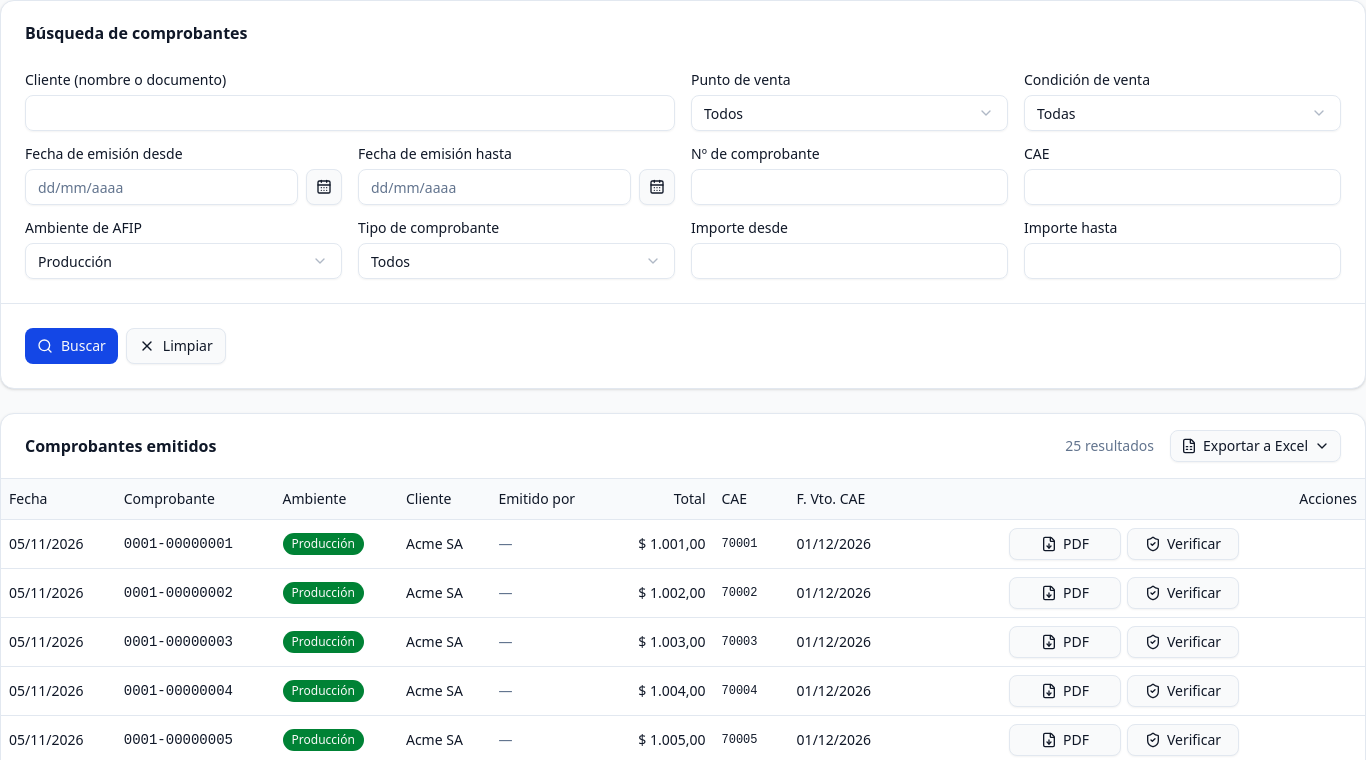
Test: Comprobantes emitidos: exportar › si el servidor la rechaza muestra el motivo sin romper la grilla
Expected: the text "Comprobantes emitidos" is shown, x1=25 y1=434 x2=216 y2=458
Click the button "Exportar a Excel". click: (1256, 446)
box: x1=1170 y1=430 x2=1341 y2=462
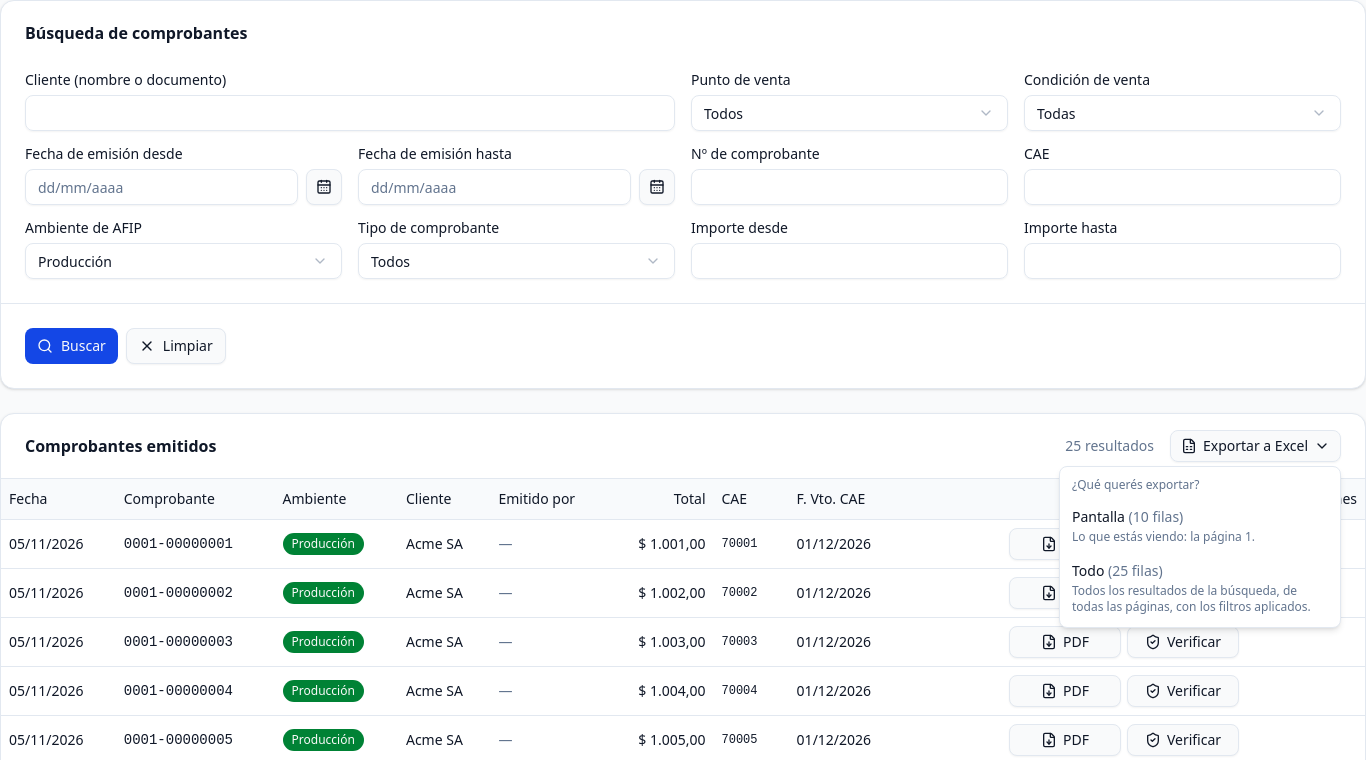
Click the menu item "Todo". click: (1200, 588)
box: x1=1064 y1=553 x2=1336 y2=623
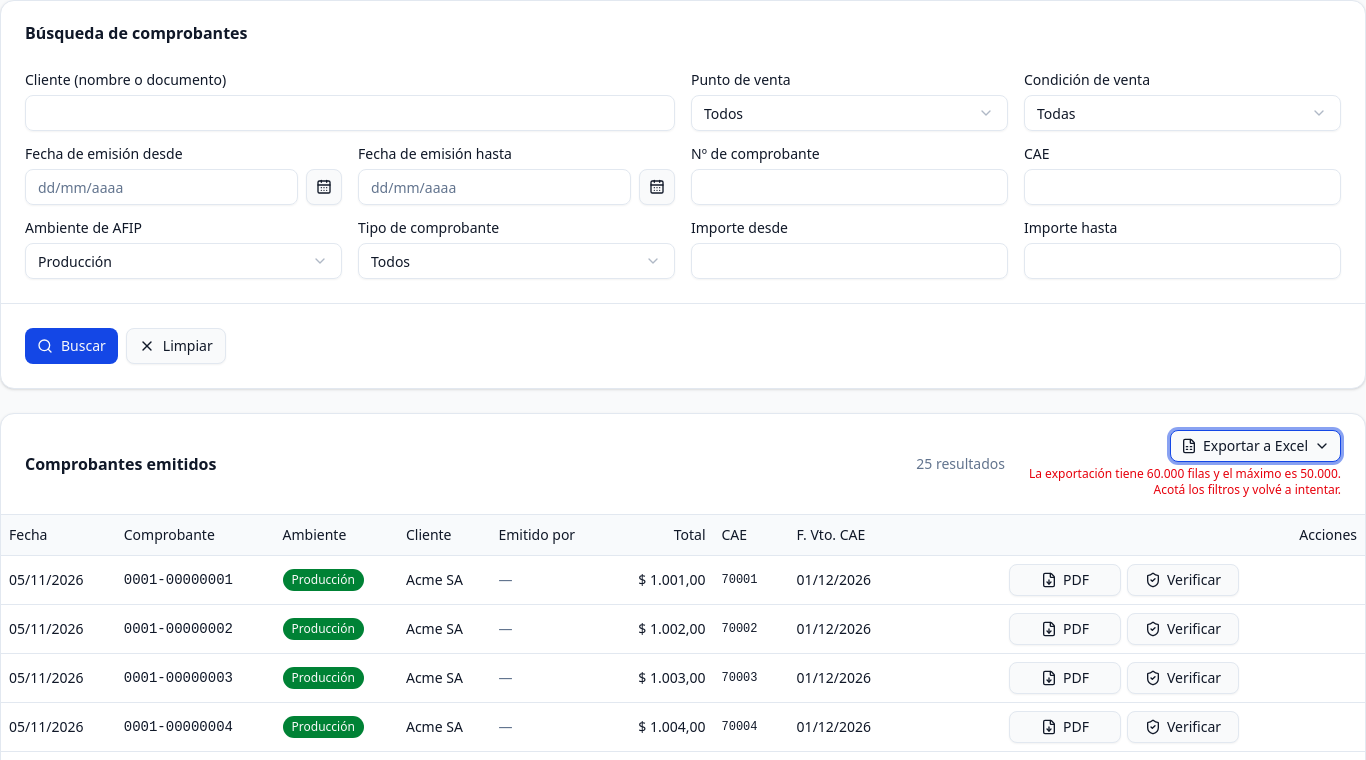
Expected: the text "Acme SA" in the row of "0001-00000001" is shown, x1=406 y1=570 x2=463 y2=588
Expected: the message shows "Acotá los filtros", x1=1029 y1=465 x2=1341 y2=498
